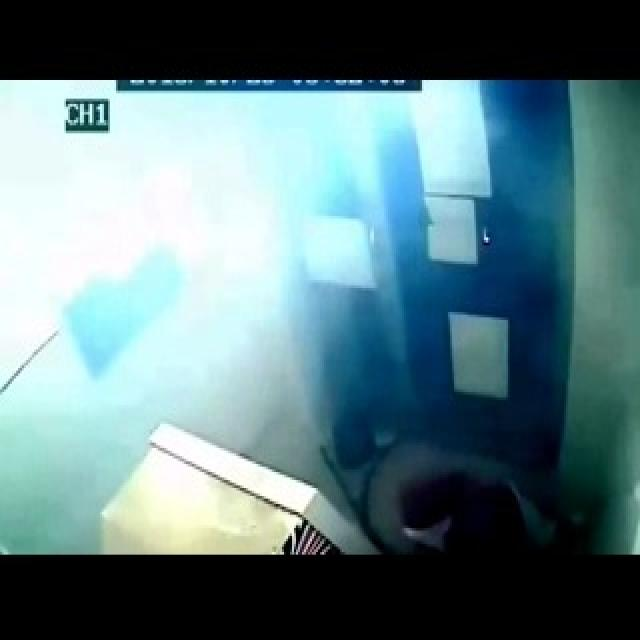thief: (377, 462, 541, 559)
